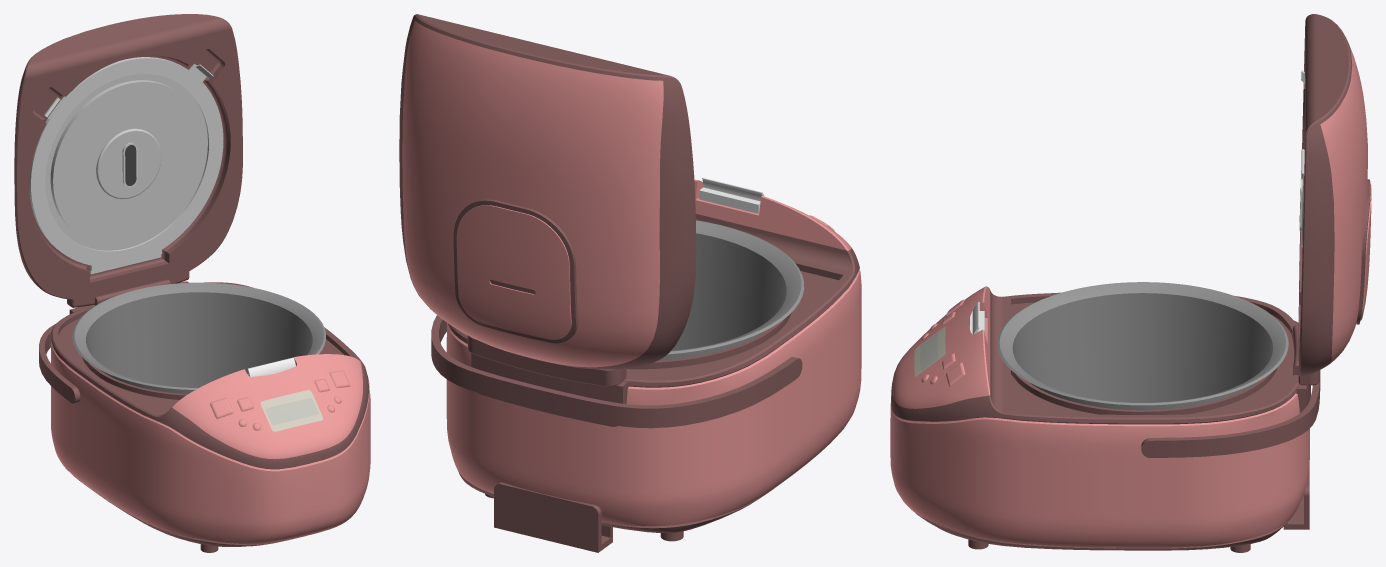
The model's file is 081_炊飯器開.glb.
The picture shows the model from 3 angles, left to right: view 1: azimuth 30°, elevation 25°; view 2: azimuth 150°, elevation 25°; view 3: azimuth 270°, elevation 25°; orthographic projection. The views are drawn at different scales.
Visible parts, largest first — view 1: 蓋, body, お釜, 持ち手; view 2: 蓋, body, お釜, 持ち手; view 3: body, お釜, 蓋, 持ち手.
Boxes of the visible parts, x1=… form: 蓋: x1=14, y1=14, x2=242, y2=307; body: x1=51, y1=279, x2=370, y2=552; お釜: x1=72, y1=282, x2=325, y2=393; 持ち手: x1=39, y1=324, x2=80, y2=403; 蓋: x1=399, y1=14, x2=696, y2=386; body: x1=446, y1=177, x2=861, y2=552; お釜: x1=659, y1=220, x2=804, y2=360; 持ち手: x1=431, y1=315, x2=802, y2=428; body: x1=890, y1=286, x2=1310, y2=552; お釜: x1=997, y1=282, x2=1288, y2=410; 蓋: x1=1298, y1=14, x2=1371, y2=385; 持ち手: x1=1141, y1=320, x2=1320, y2=457.
Size of the model in its own units: 0.244 by 0.3654 by 0.355.
